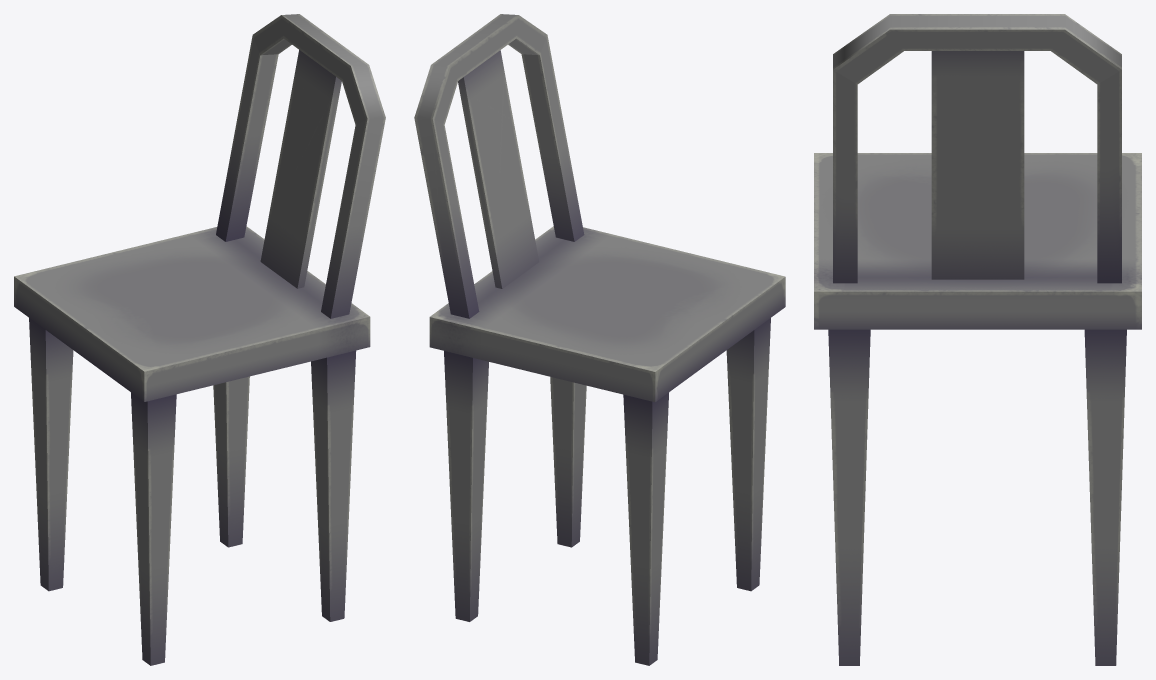
File: Chair.fbx
The picture shows the model from 3 angles, left to right: view 1: azimuth 30°, elevation 25°; view 2: azimuth 150°, elevation 25°; view 3: azimuth 270°, elevation 25°; orthographic projection. The views are drawn at different scales.
Visible parts, largest first — view 1: chair_mesh; view 2: chair_mesh; view 3: chair_mesh.
Boxes of the visible parts, bbox=[...] form: chair_mesh: bbox=[14, 14, 385, 665]; chair_mesh: bbox=[414, 14, 785, 665]; chair_mesh: bbox=[814, 14, 1141, 665].
Size of the model in its own units: 3.65 by 7.28 by 3.24.
